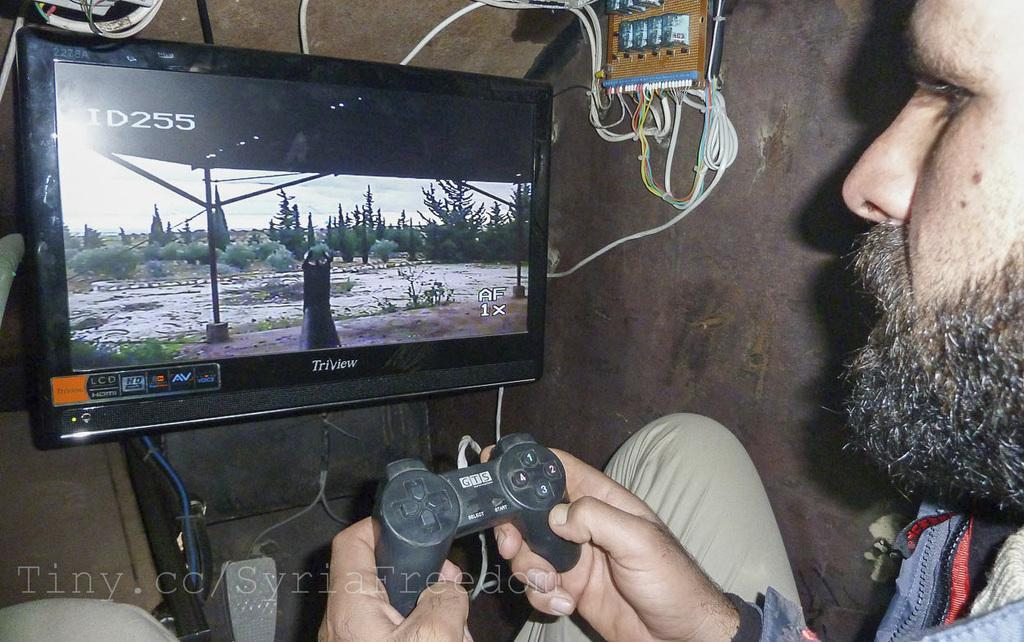Computer-monitor: (19, 25, 555, 449)
